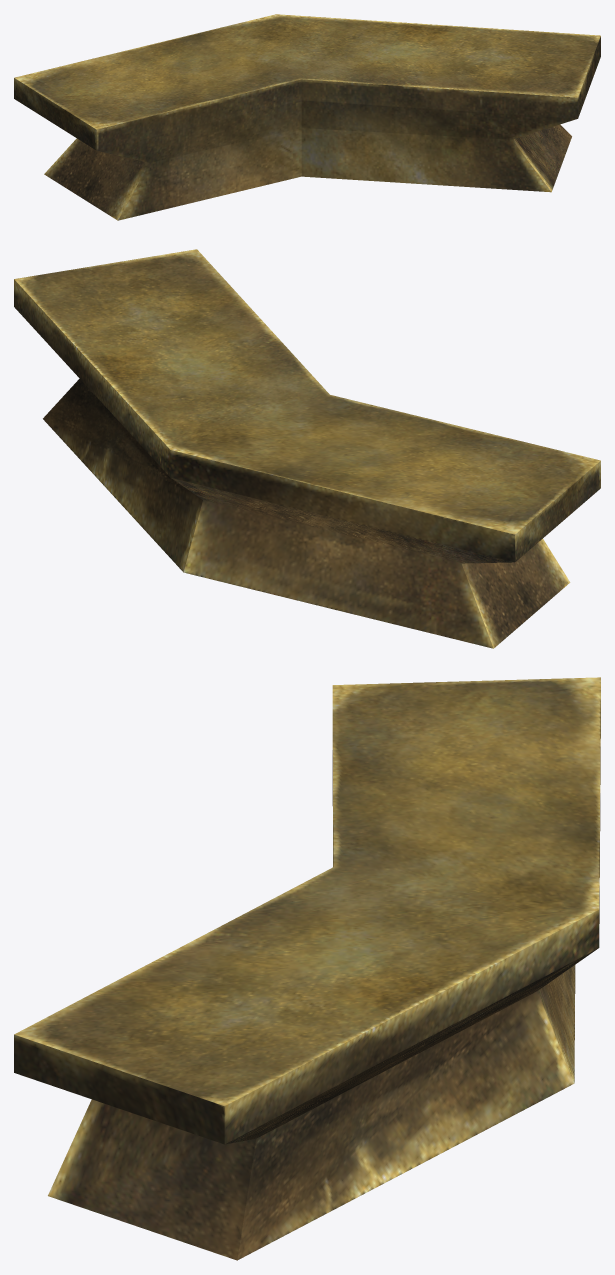
File: cashier.fbx
3 renders of one model, top to bottom at view 1: azimuth 30°, elevation 25°; view 2: azimuth 150°, elevation 25°; view 3: azimuth 270°, elevation 25°, orthographic. The views are drawn at different scales.
Visible parts, largest first — view 1: cashier; view 2: cashier; view 3: cashier.
Boxes of the visible parts, left/top/right/bottom form: cashier: left=14, top=14, right=600, bottom=220; cashier: left=14, top=249, right=600, bottom=648; cashier: left=14, top=677, right=600, bottom=1260.
Size of the model in its own units: 3.12 by 0.6 by 1.81.
